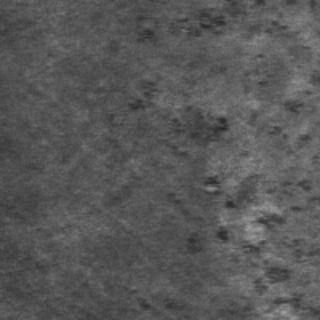rolled pit: (207, 114, 317, 314), (134, 1, 298, 44), (127, 75, 227, 145)
